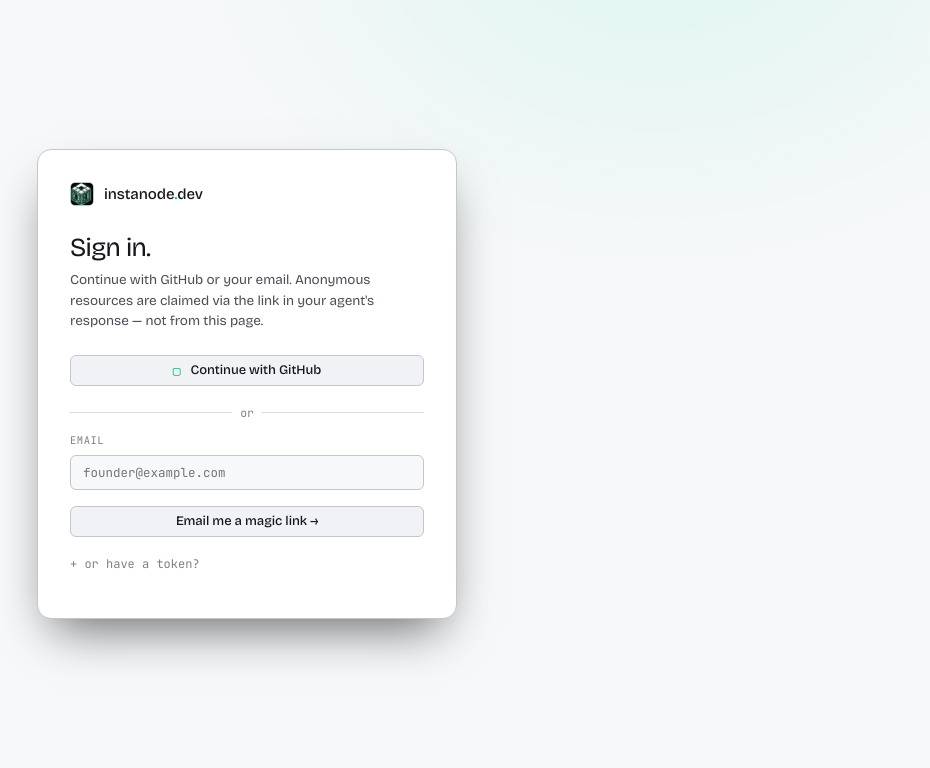
Test: LoginPage › requires a token before submitting the PAT form
Click the button with test id "toggle-token-form".
click(135, 564)  # box [70, 556, 424, 572]
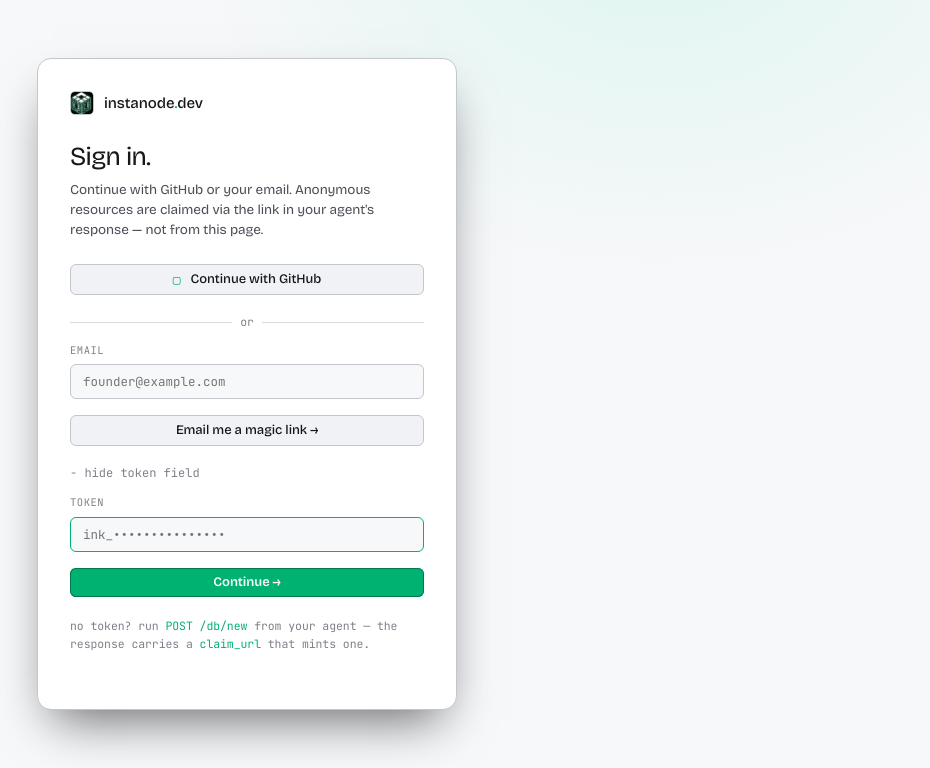
Click the button with test id "login-submit".
click(247, 583)  # box [70, 568, 424, 597]
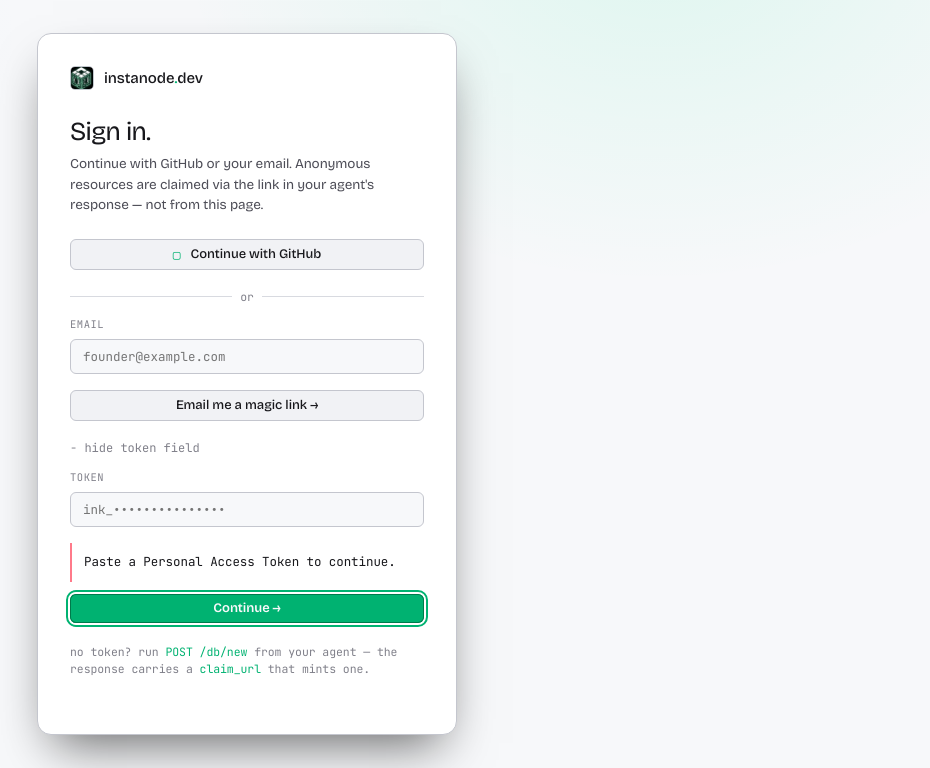
Expected: the message with test id "login-error" shows "Paste a Personal Access Token", [84, 553, 396, 570]
